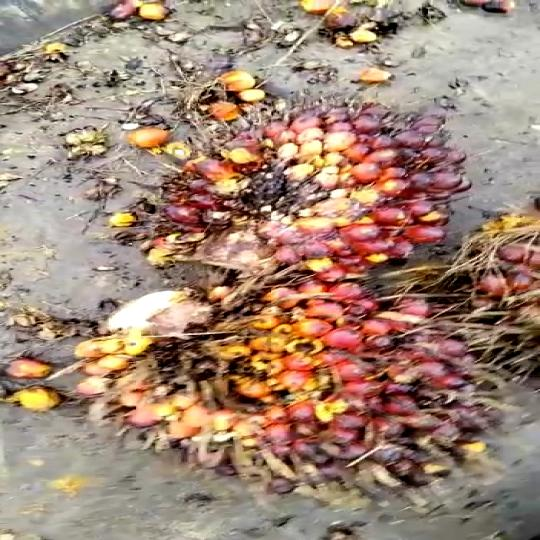masak: (73, 274, 529, 498), (121, 108, 472, 292)
